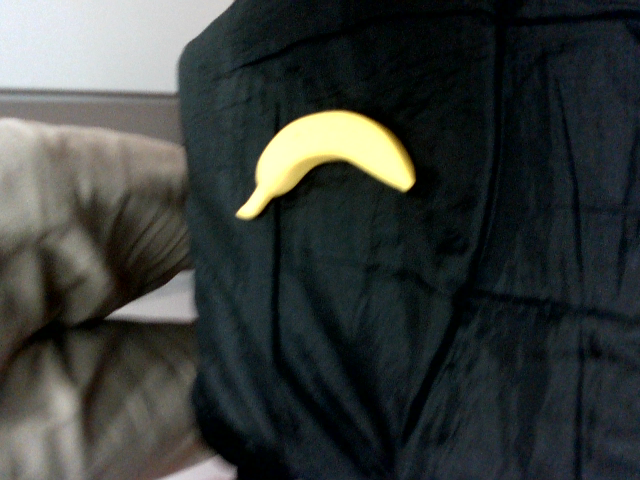banana: (221, 97, 418, 221)
